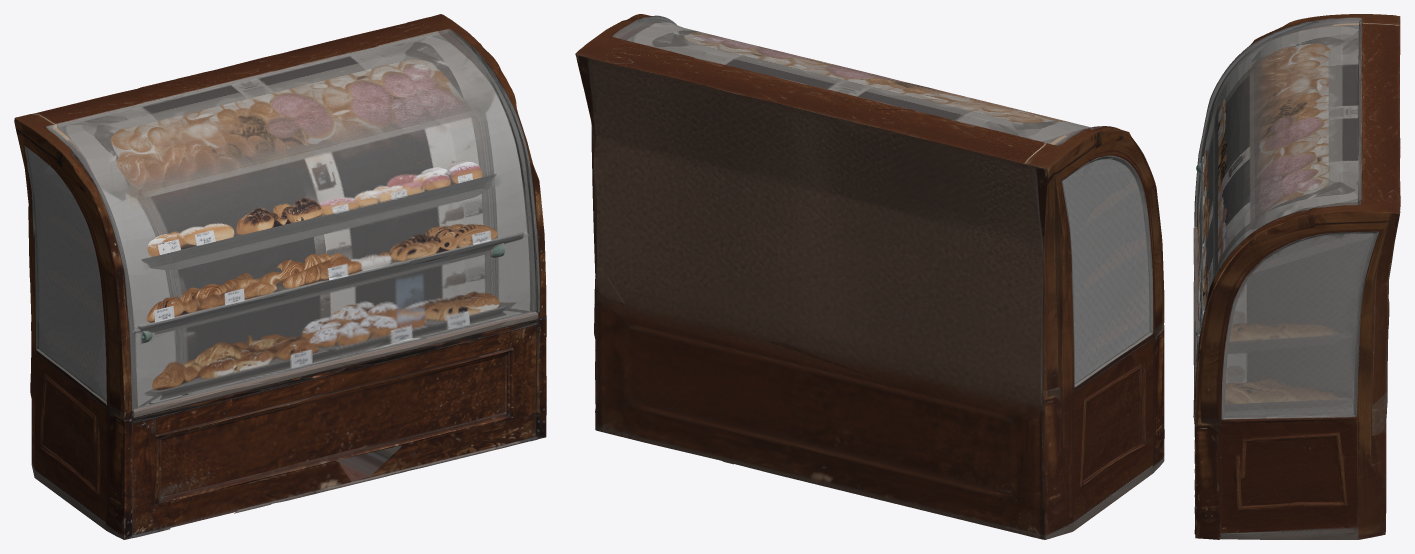
Rendered from bakery-counter.glb.
3 renders of one model, left to right at view 1: azimuth 30°, elevation 25°; view 2: azimuth 150°, elevation 25°; view 3: azimuth 270°, elevation 25°, orthographic. The views are drawn at different scales.
Parts seen in each view (by area): view 1: Mesh_0; view 2: Mesh_0; view 3: Mesh_0.
Boxes of the visible parts, x1=… form: Mesh_0: x1=14, y1=14, x2=546, y2=539; Mesh_0: x1=575, y1=14, x2=1164, y2=539; Mesh_0: x1=1193, y1=14, x2=1400, y2=539.
Size of the model in its own units: 1.91 by 1.47 by 0.8359.
1 material, 1 textured.
